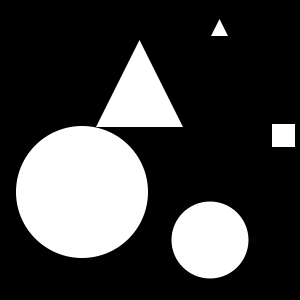circle: (272, 124, 295, 147)
rectangle: (16, 126, 148, 258), (172, 202, 248, 278)
triangle: (96, 40, 183, 127), (211, 19, 228, 36)
